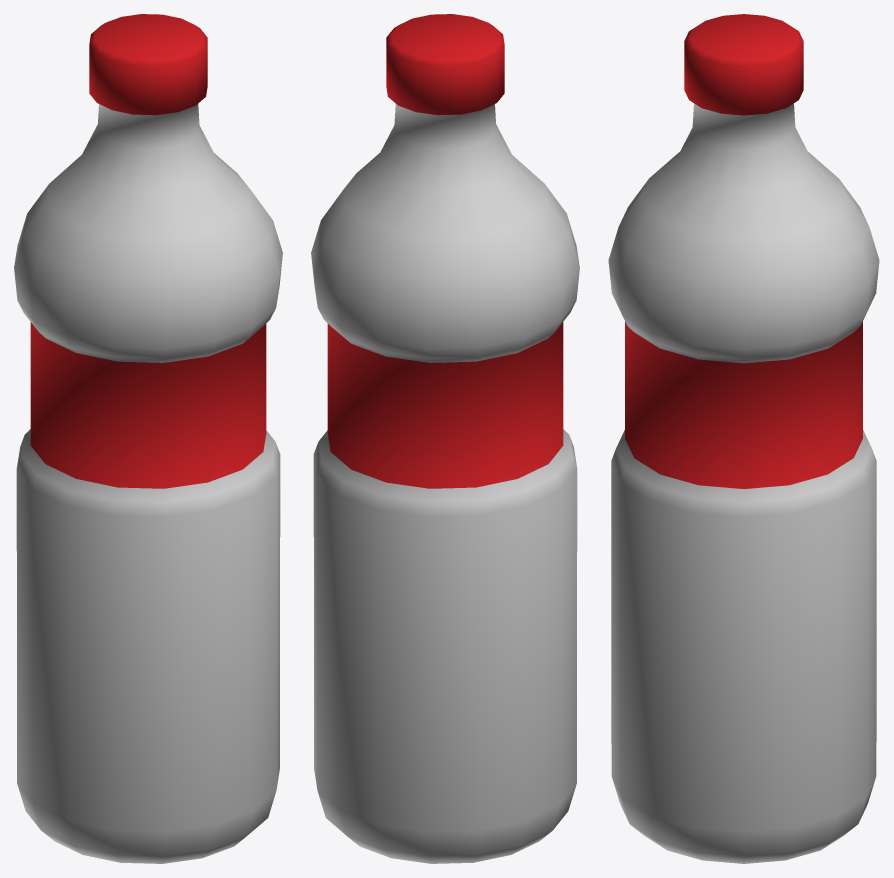
The model's file is VMP_MOD_S_Soda_01_01.fbx.
3 views of the same model, side by side, from view 1: azimuth 30°, elevation 25°; view 2: azimuth 150°, elevation 25°; view 3: azimuth 270°, elevation 25° (orthographic).
Parts seen in each view (by area): view 1: VMP_MOD_S_Soda_01_01; view 2: VMP_MOD_S_Soda_01_01; view 3: VMP_MOD_S_Soda_01_01.
Part boxes in pixels (<box>): VMP_MOD_S_Soda_01_01: <box>14,14,282,863</box>; VMP_MOD_S_Soda_01_01: <box>311,14,579,863</box>; VMP_MOD_S_Soda_01_01: <box>608,14,879,863</box>.
Bounding box in the file's own units: 0.0724 × 0.2304 × 0.0724.
